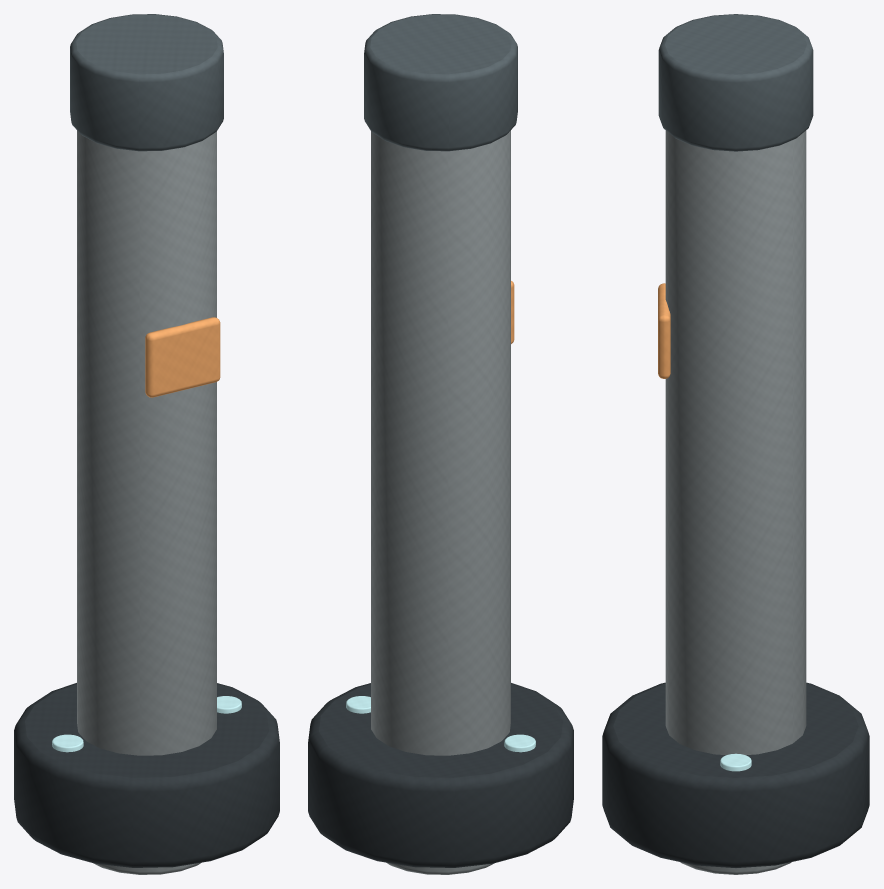
Rendered from WallBollard.glb.
The picture shows the model from 3 angles, left to right: view 1: azimuth 30°, elevation 25°; view 2: azimuth 150°, elevation 25°; view 3: azimuth 270°, elevation 25°; orthographic projection.
Parts seen in each view (by area): view 1: WallBollard_Mesh; view 2: WallBollard_Mesh; view 3: WallBollard_Mesh.
Boxes of the visible parts, x1,y1,x2,y2 form: WallBollard_Mesh: (14,14,279,874); WallBollard_Mesh: (308,14,573,874); WallBollard_Mesh: (602,14,869,874).
Size of the model in its own units: 0.38 by 1.26 by 0.38.
5 materials, 5 textured.
